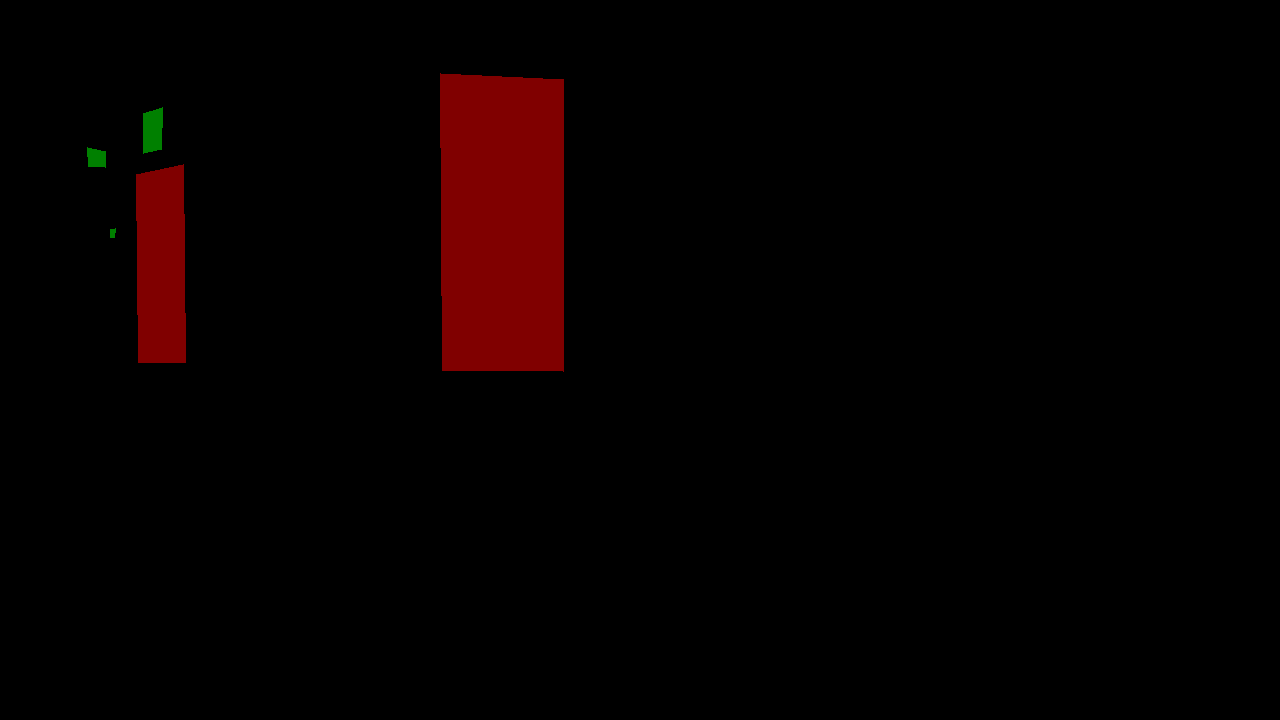door: (440, 73, 563, 371), (136, 164, 185, 362)
sign: (143, 107, 162, 153), (87, 147, 105, 167), (110, 228, 115, 237)
